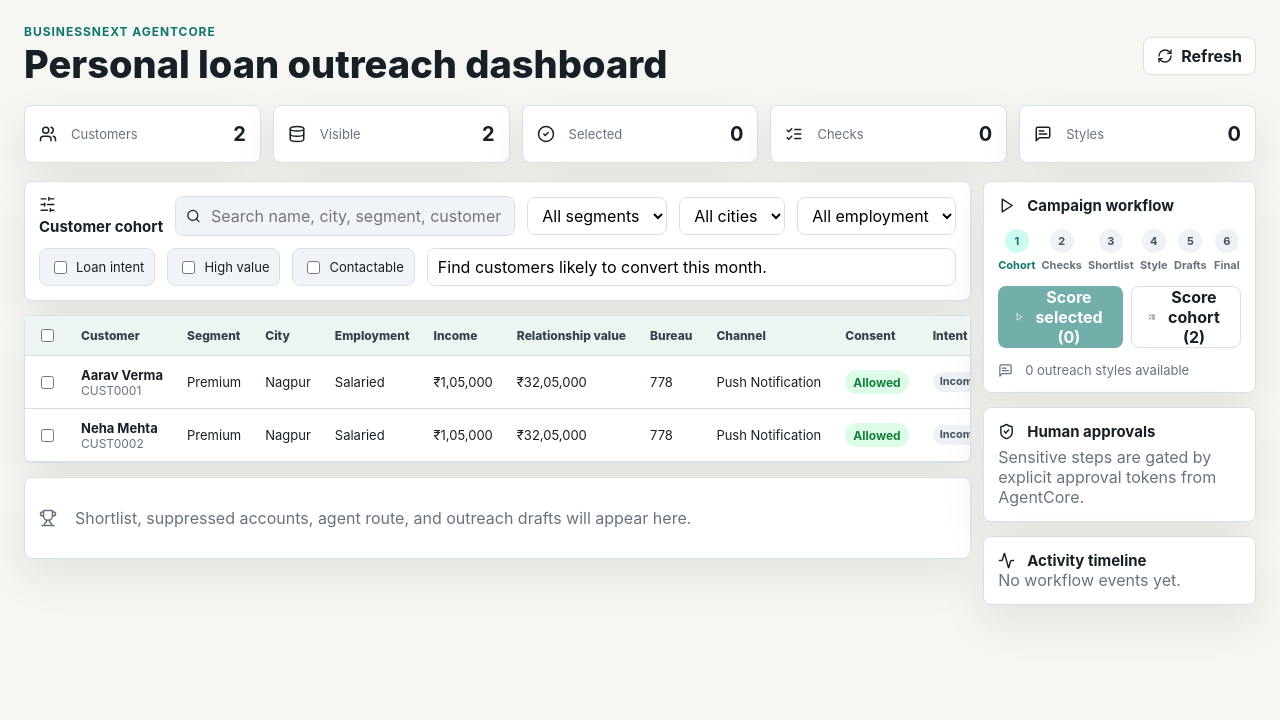
Test: Dashboard › resets active workflow progress when selection changes
The width and height of the screenshot is (1280, 720).
expect the text "Aarav Verma" is shown: met, box [81,366,163,382]
Click the checkbox named "Select Aarav Verma". click: x=48, y=382
box: [41,376,54,388]
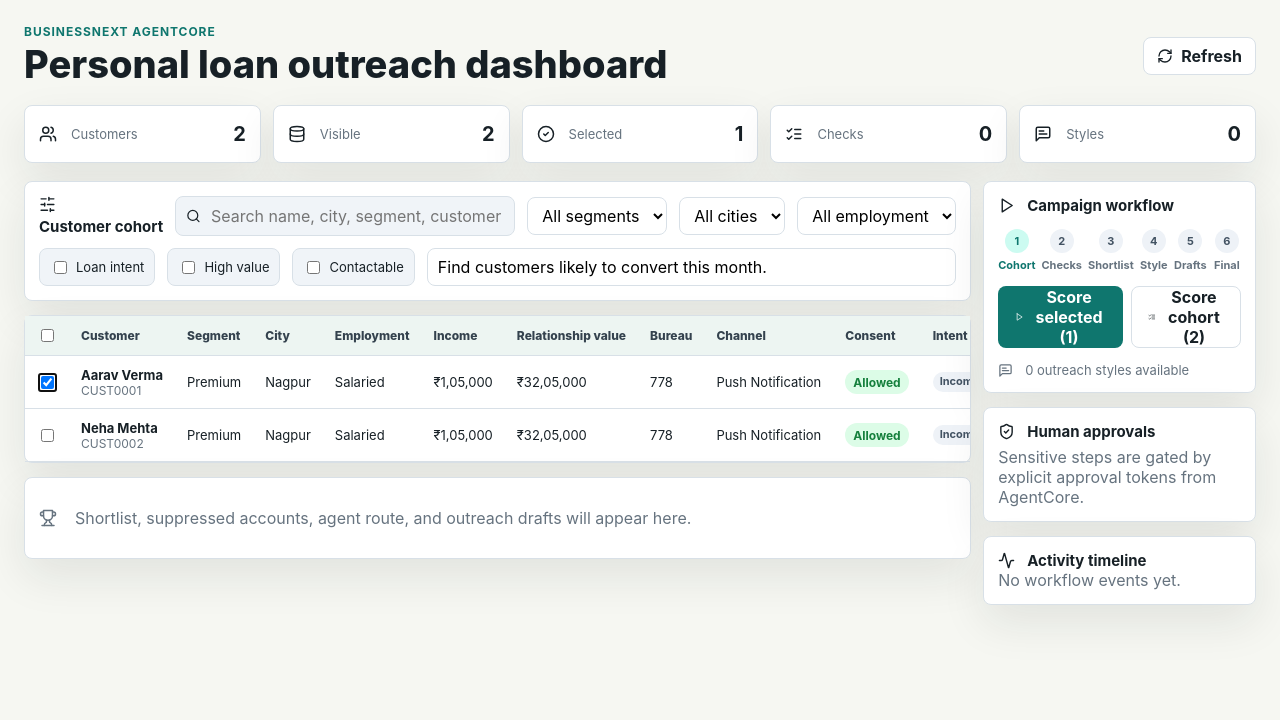
Click the button "Score selected (1)". click: x=1061, y=317
box: [998,286,1123,348]
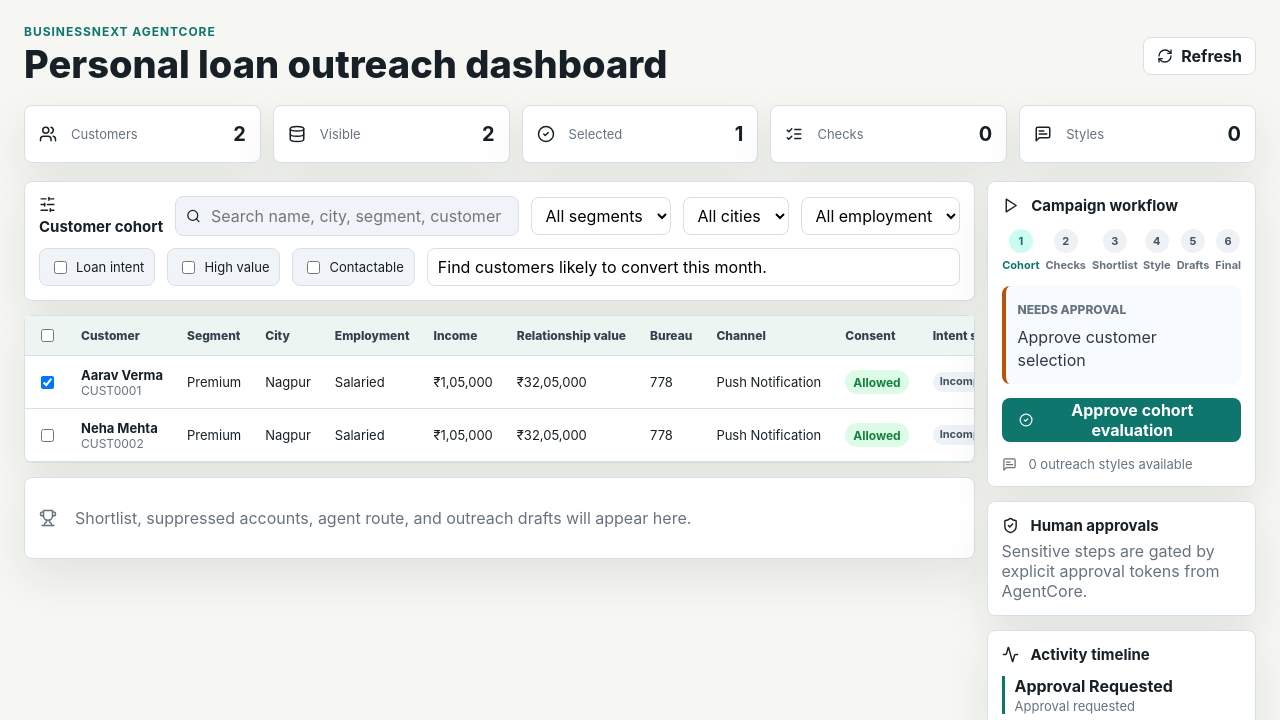
expect the text "Approve customer selection" is shown: met, box [1018,327,1157,370]
Click the checkbox named "Select Neha Mehta". click: x=48, y=435
box: [41,428,54,442]
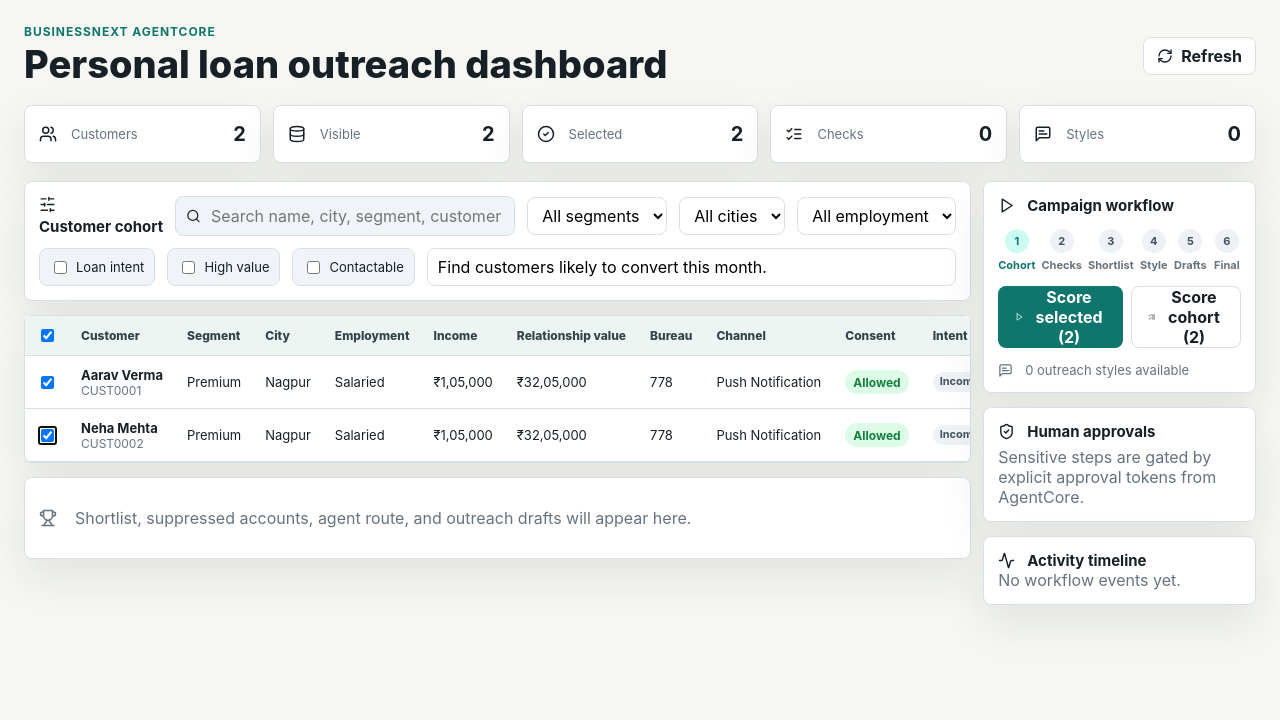
expect the text "Approve customer selection" is gone: met
expect the text "Approval Requested" is gone: met
